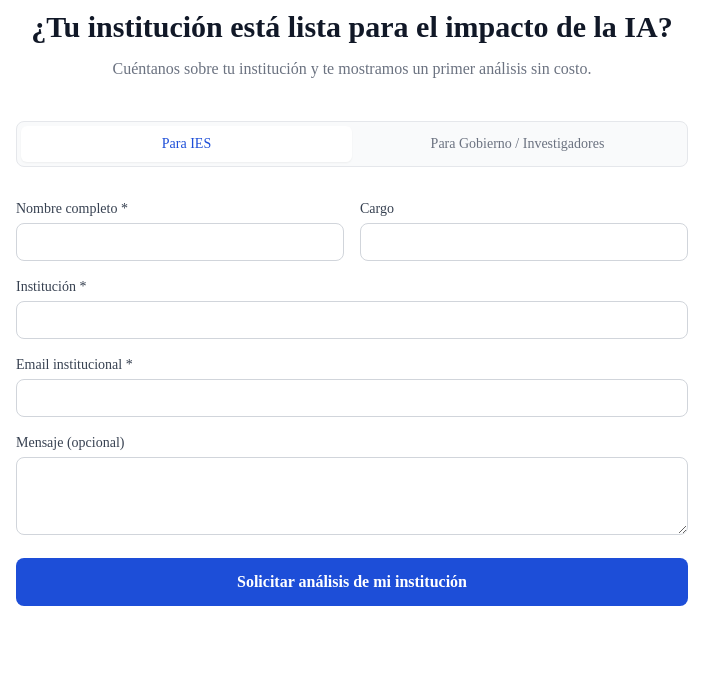
it: FormularioContacto › cambia el formulario al cambiar de tab
Expected: the field labelled "Institución *" is shown, [16,301,688,339]
Click the button "Para Gobierno / Investigadores" at (518, 144), box [352,126,683,162]
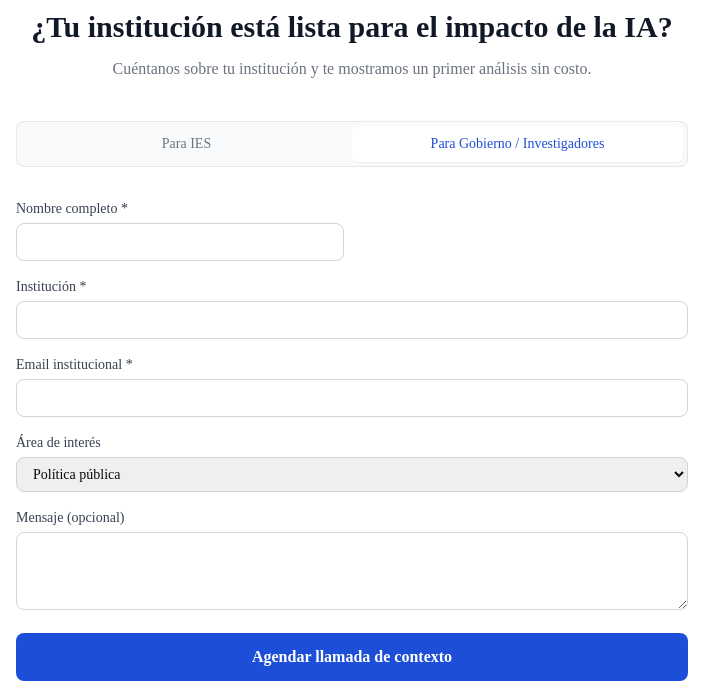
Expected: the dropdown labelled "Área de interés" is shown, [16,457,688,492]
